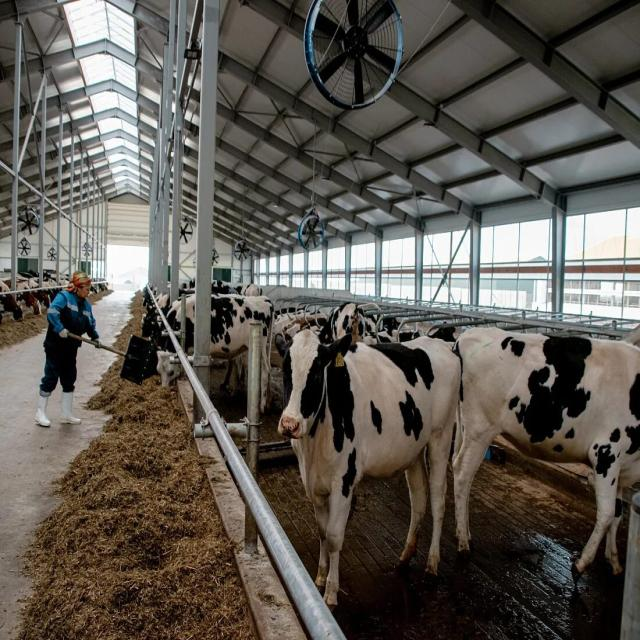cow: (274, 320, 462, 611), (450, 323, 639, 578), (154, 292, 274, 414)
